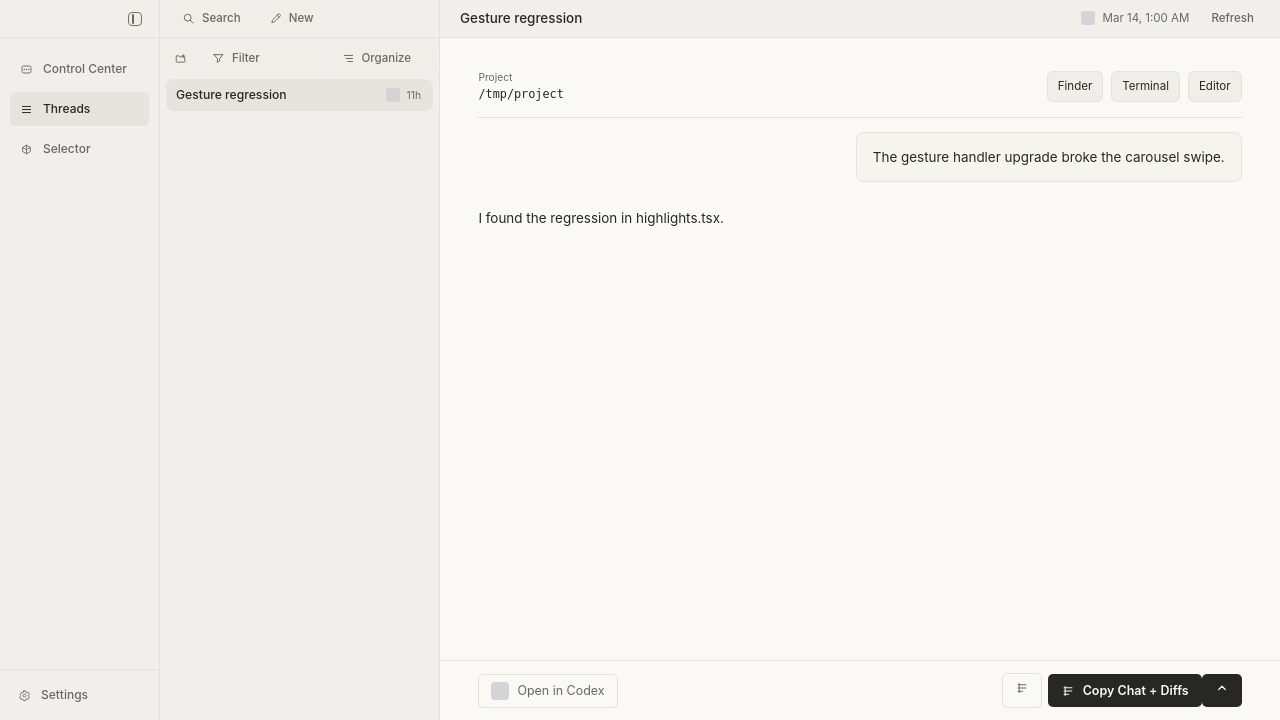
Test: Handoff App › opens search mode and restores results after returning from a selected thread
Expected: the text "I found the regression in highlights.tsx." is shown, x1=478 y1=210 x2=724 y2=226
Step 1. Click the button with aria-label "Open search" → click(211, 18), box x1=172 y1=4 x2=251 y2=32
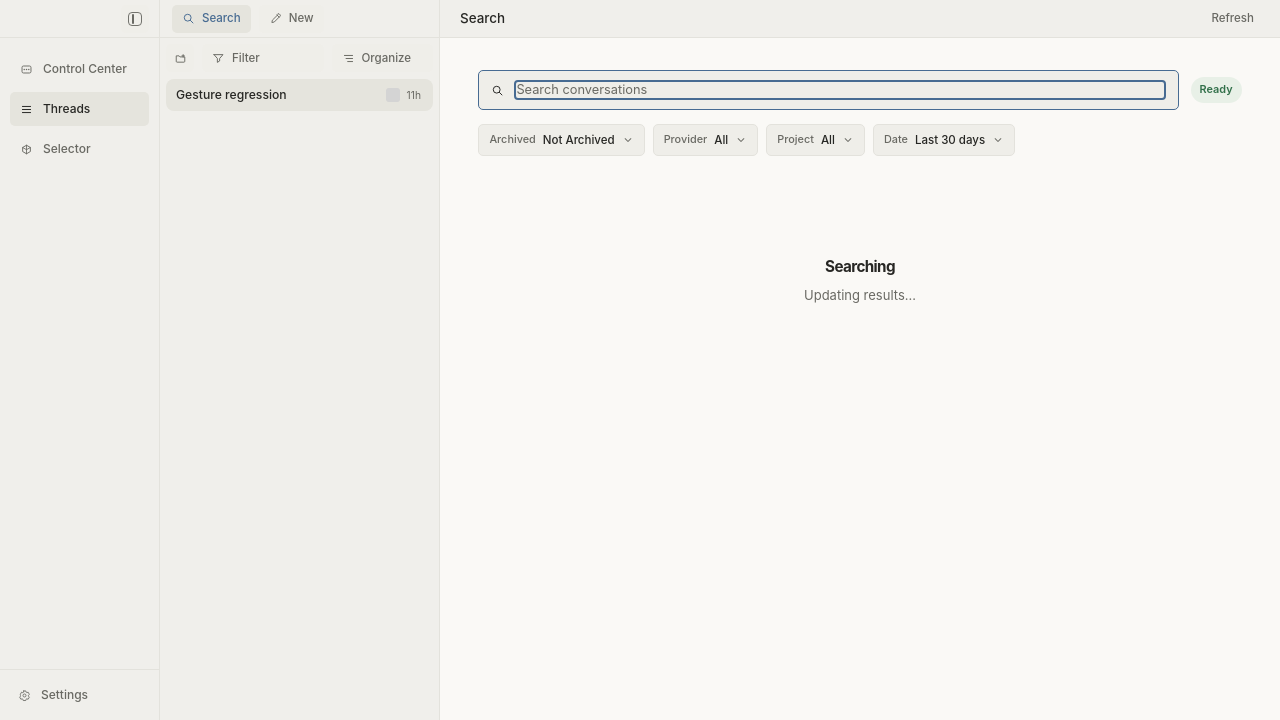
Step 2. Type "gesture" into the field with placeholder "Search conversations" → (840, 90), box x1=514 y1=80 x2=1166 y2=100
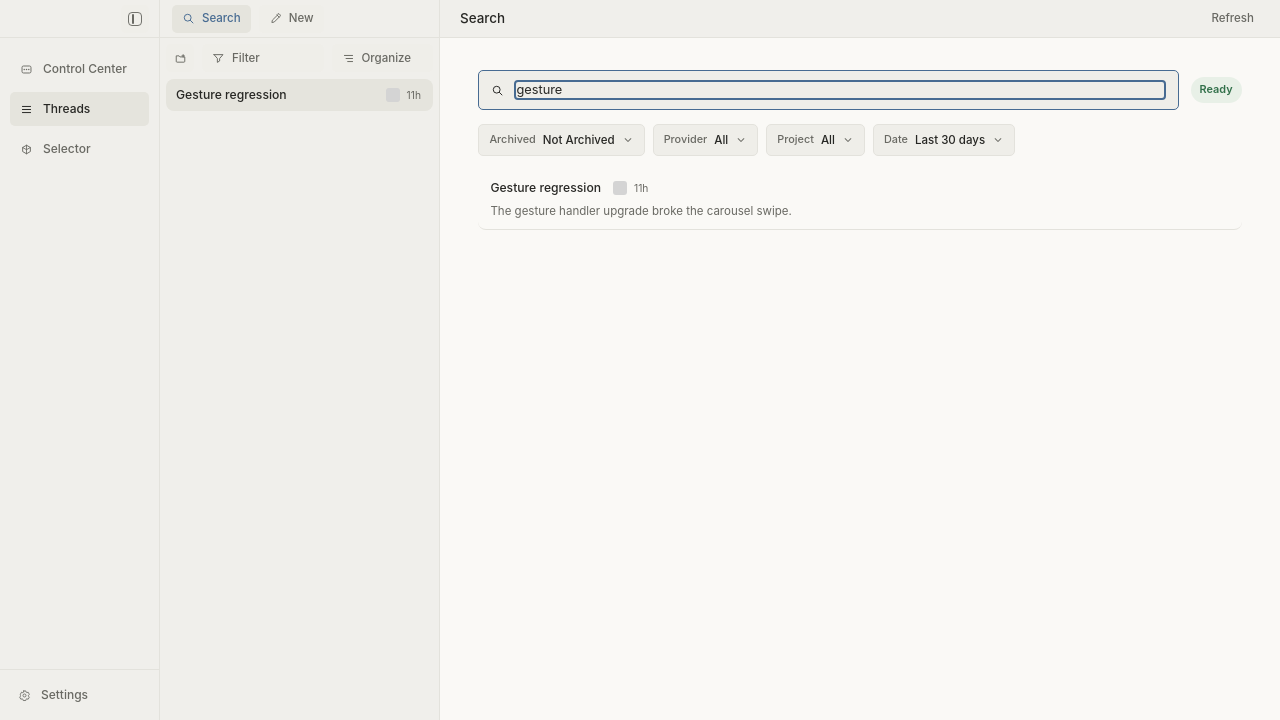
Step 3. Click the button "The gesture handler upgrade broke the carousel swipe." → click(546, 188), box x1=478 y1=170 x2=1242 y2=230
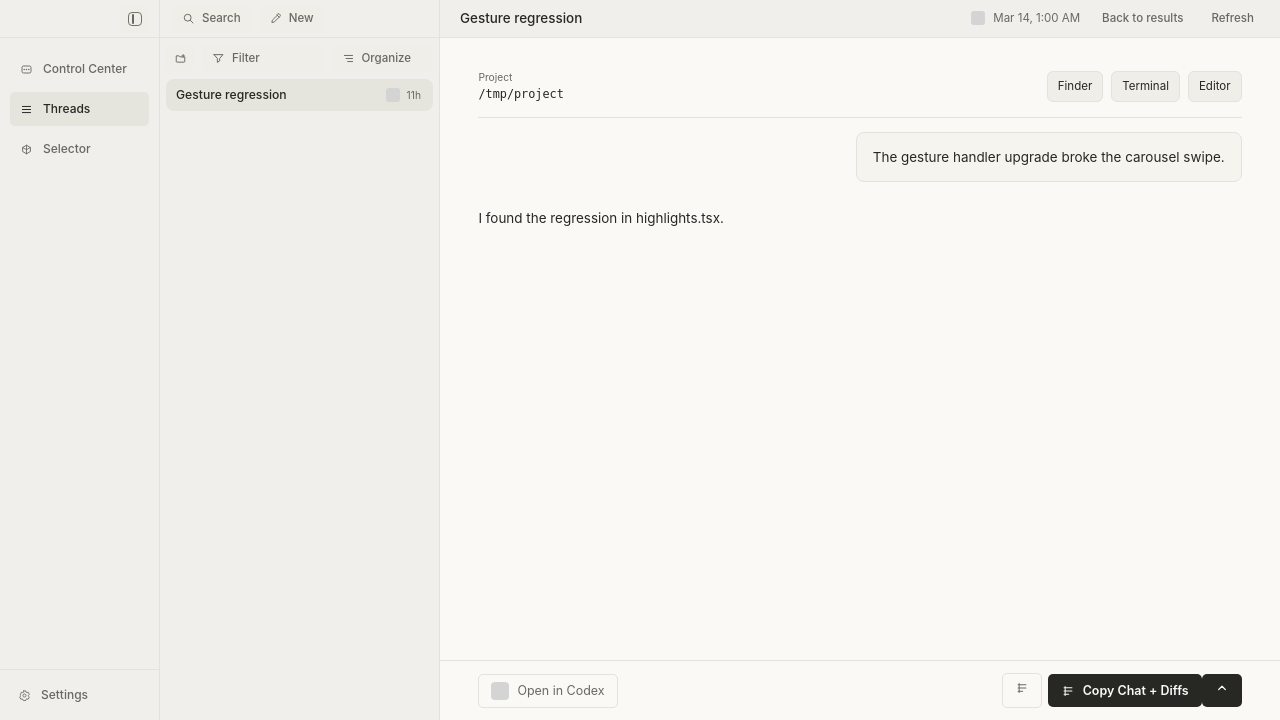
Expected: the text "I found the regression in highlights.tsx." is shown, x1=478 y1=210 x2=724 y2=226
Expected: the button "Back to results" is shown
Step 4. Click the button "Back to results" → click(1143, 18), box x1=1092 y1=6 x2=1193 y2=30
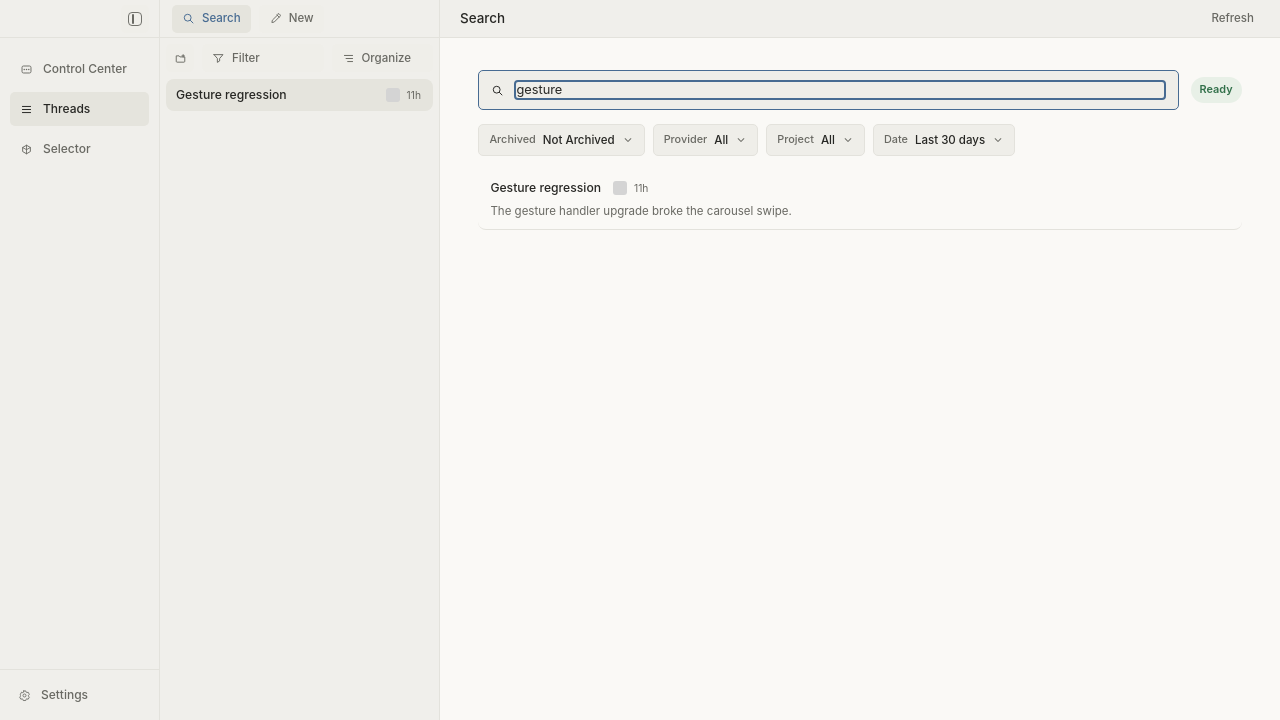
Expected: the text "The gesture handler upgrade broke the carousel swipe." is shown, x1=490 y1=202 x2=792 y2=219
Expected: the field showing "gesture" is shown, x1=514 y1=80 x2=1166 y2=100
